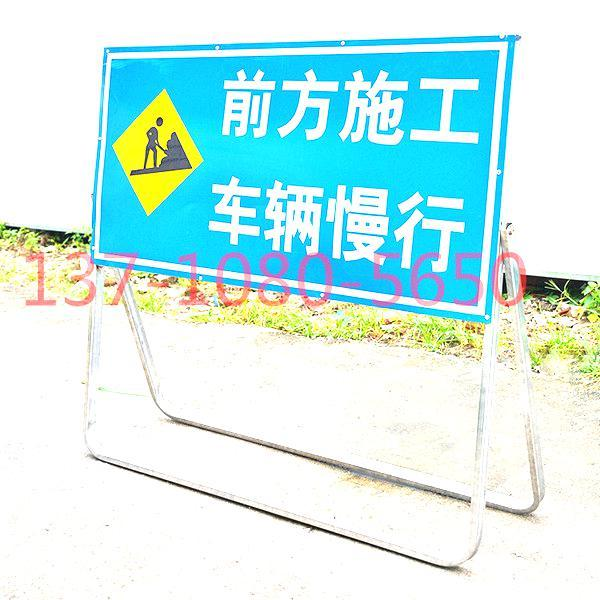sign: (94, 37, 503, 322)
